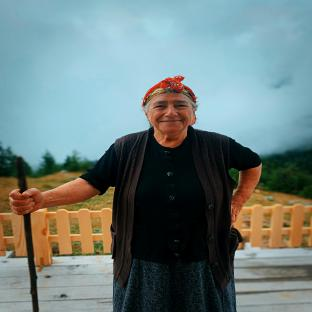Human: (9, 76, 261, 312)
